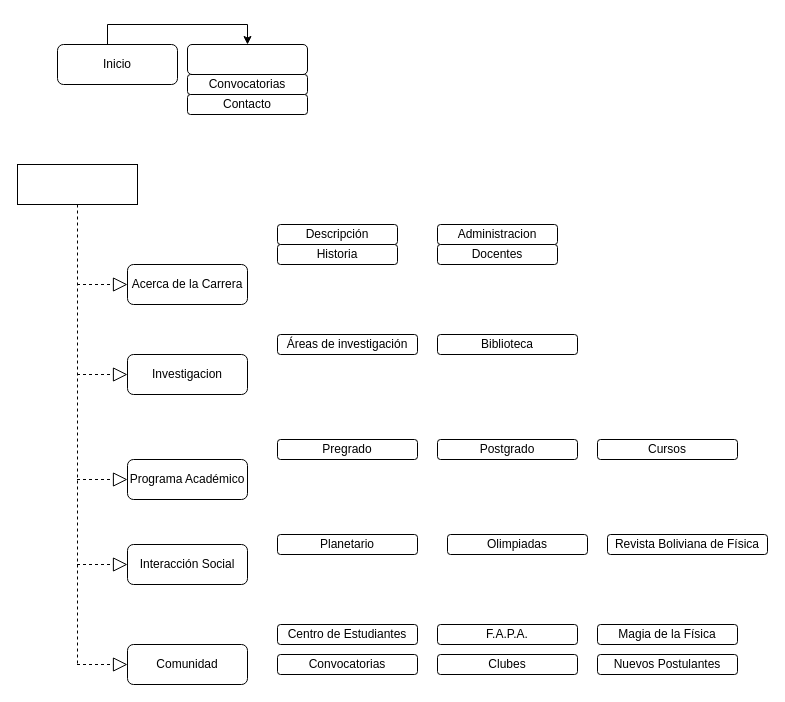
This 785x702 diagram has some shape labels left out. The box of each missing label's shape, as (x1, y1, x2, y2) in pixels:
:NavBar: (16, 164, 138, 664)
Información destacada: (186, 44, 308, 74)
